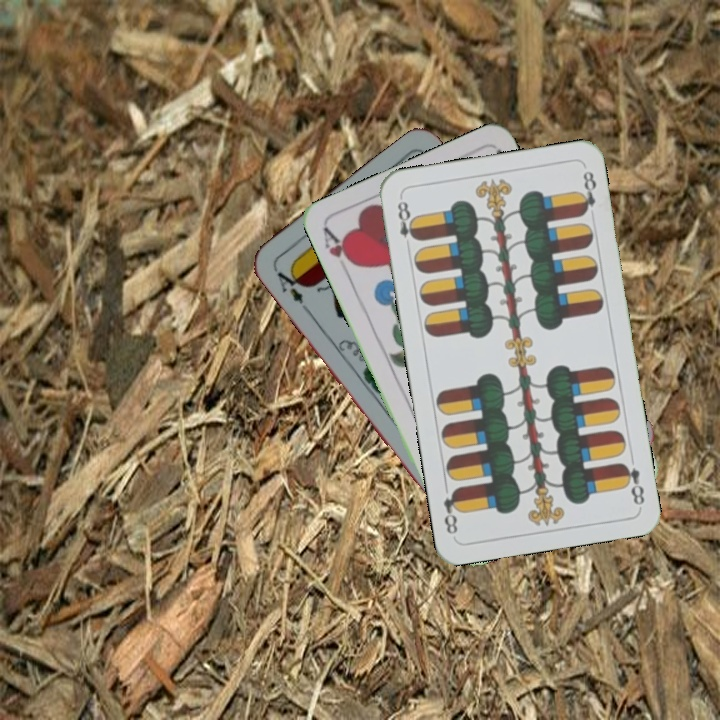E8: (393, 194, 420, 253), (617, 458, 647, 508)
EA: (269, 262, 307, 307)
HA: (319, 224, 359, 279)
